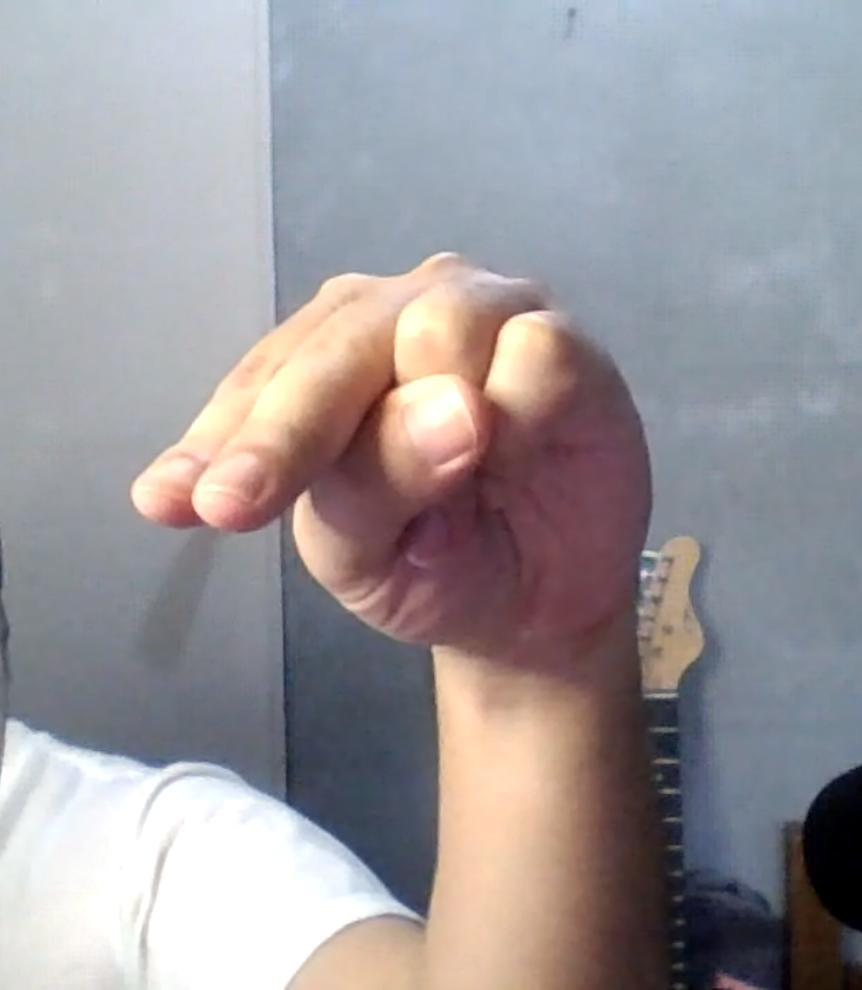n: (129, 248, 652, 654)
